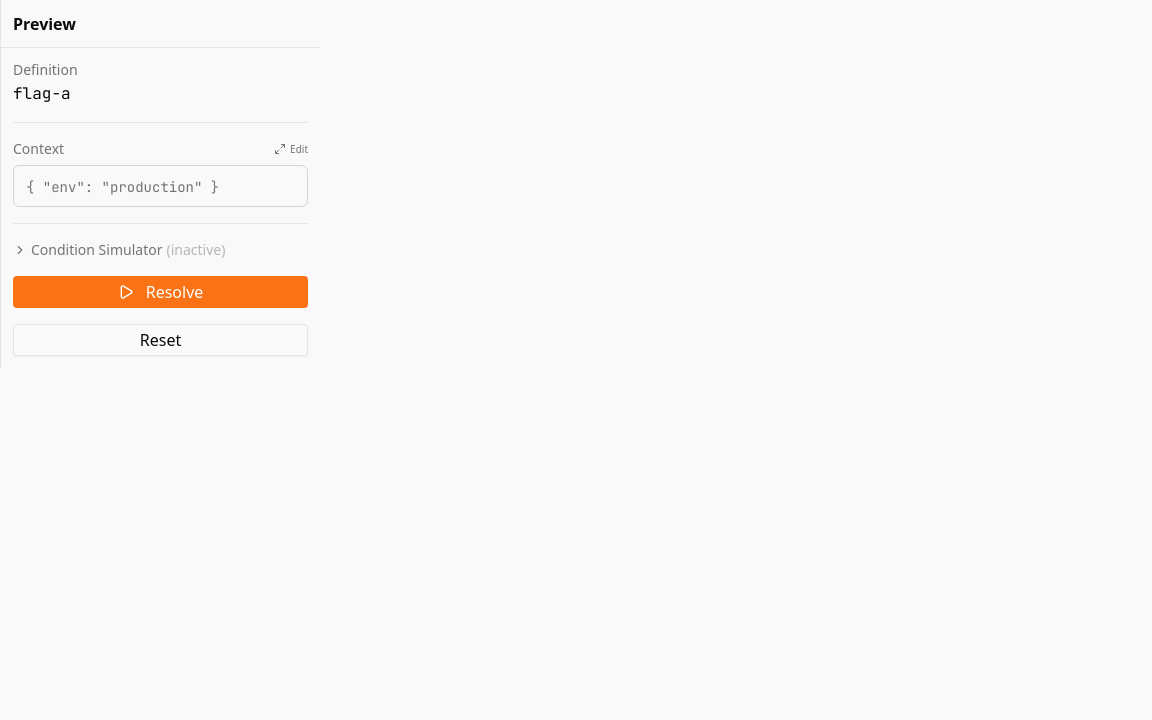
Test: PreviewPanel › should open context editor when clicking the context preview box
Note: Click the context placeholder text to open the editor
Step 1. Click the button "{ \"env\": \"production\" }" → (160, 186), box [13,165,308,207]
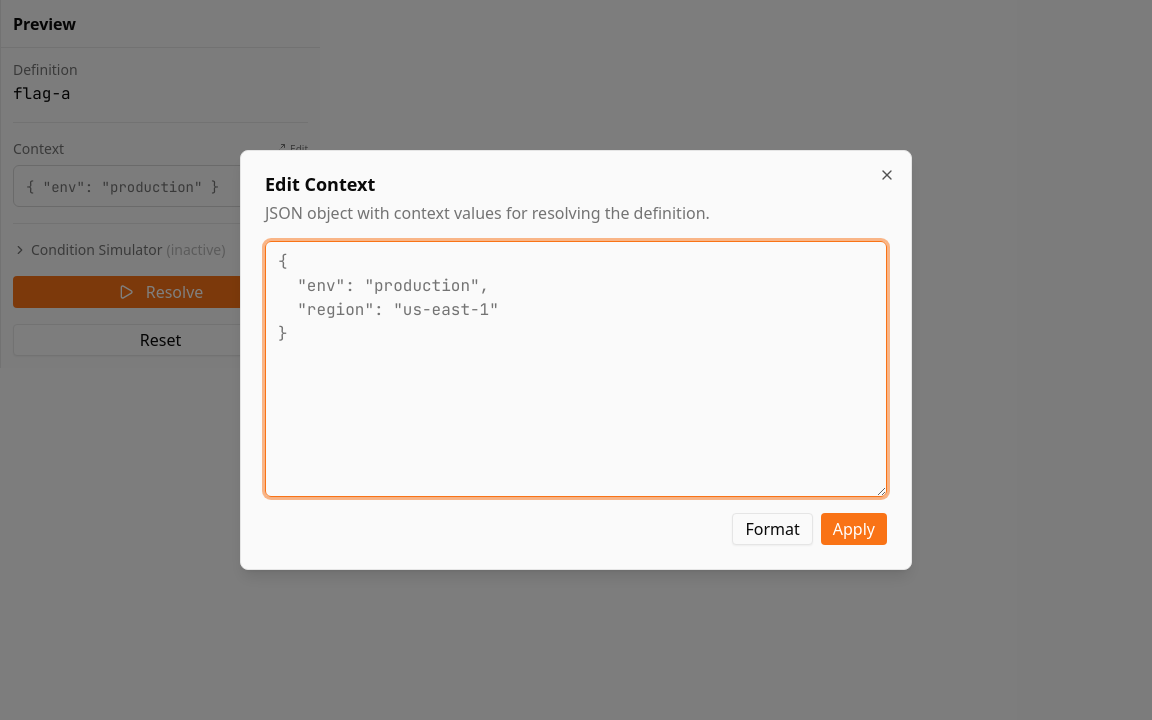
Result: the text box with placeholder "{ \"env\": \"production\", \"region\": \"us-east-1\" }" is shown at [265,241,887,497]
